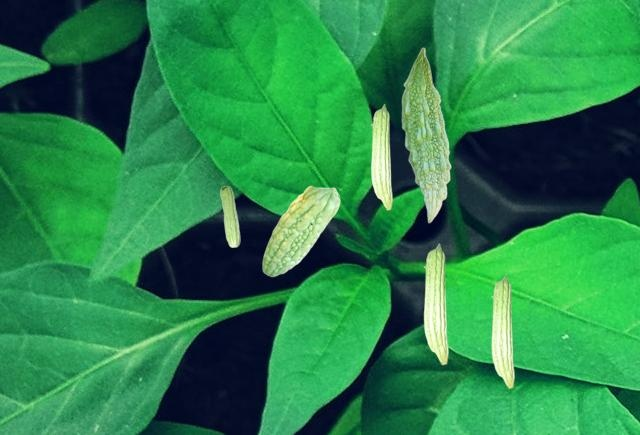ampalaya: (401, 47, 451, 223), (261, 185, 340, 277), (423, 243, 448, 365), (491, 274, 514, 389), (370, 103, 392, 210), (219, 185, 241, 248)
